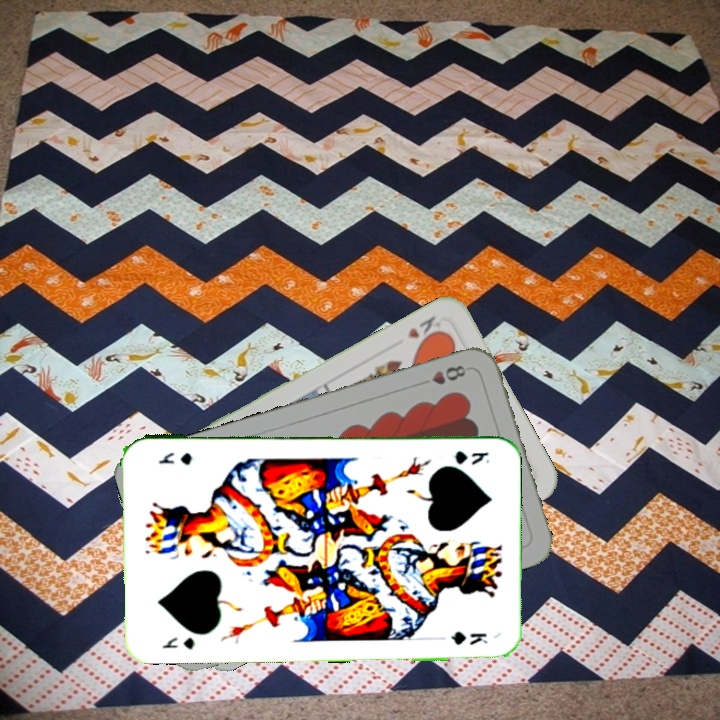GK: (450, 447, 492, 466), (158, 633, 197, 652)
H8: (427, 361, 469, 388)
HK: (403, 311, 446, 347)
